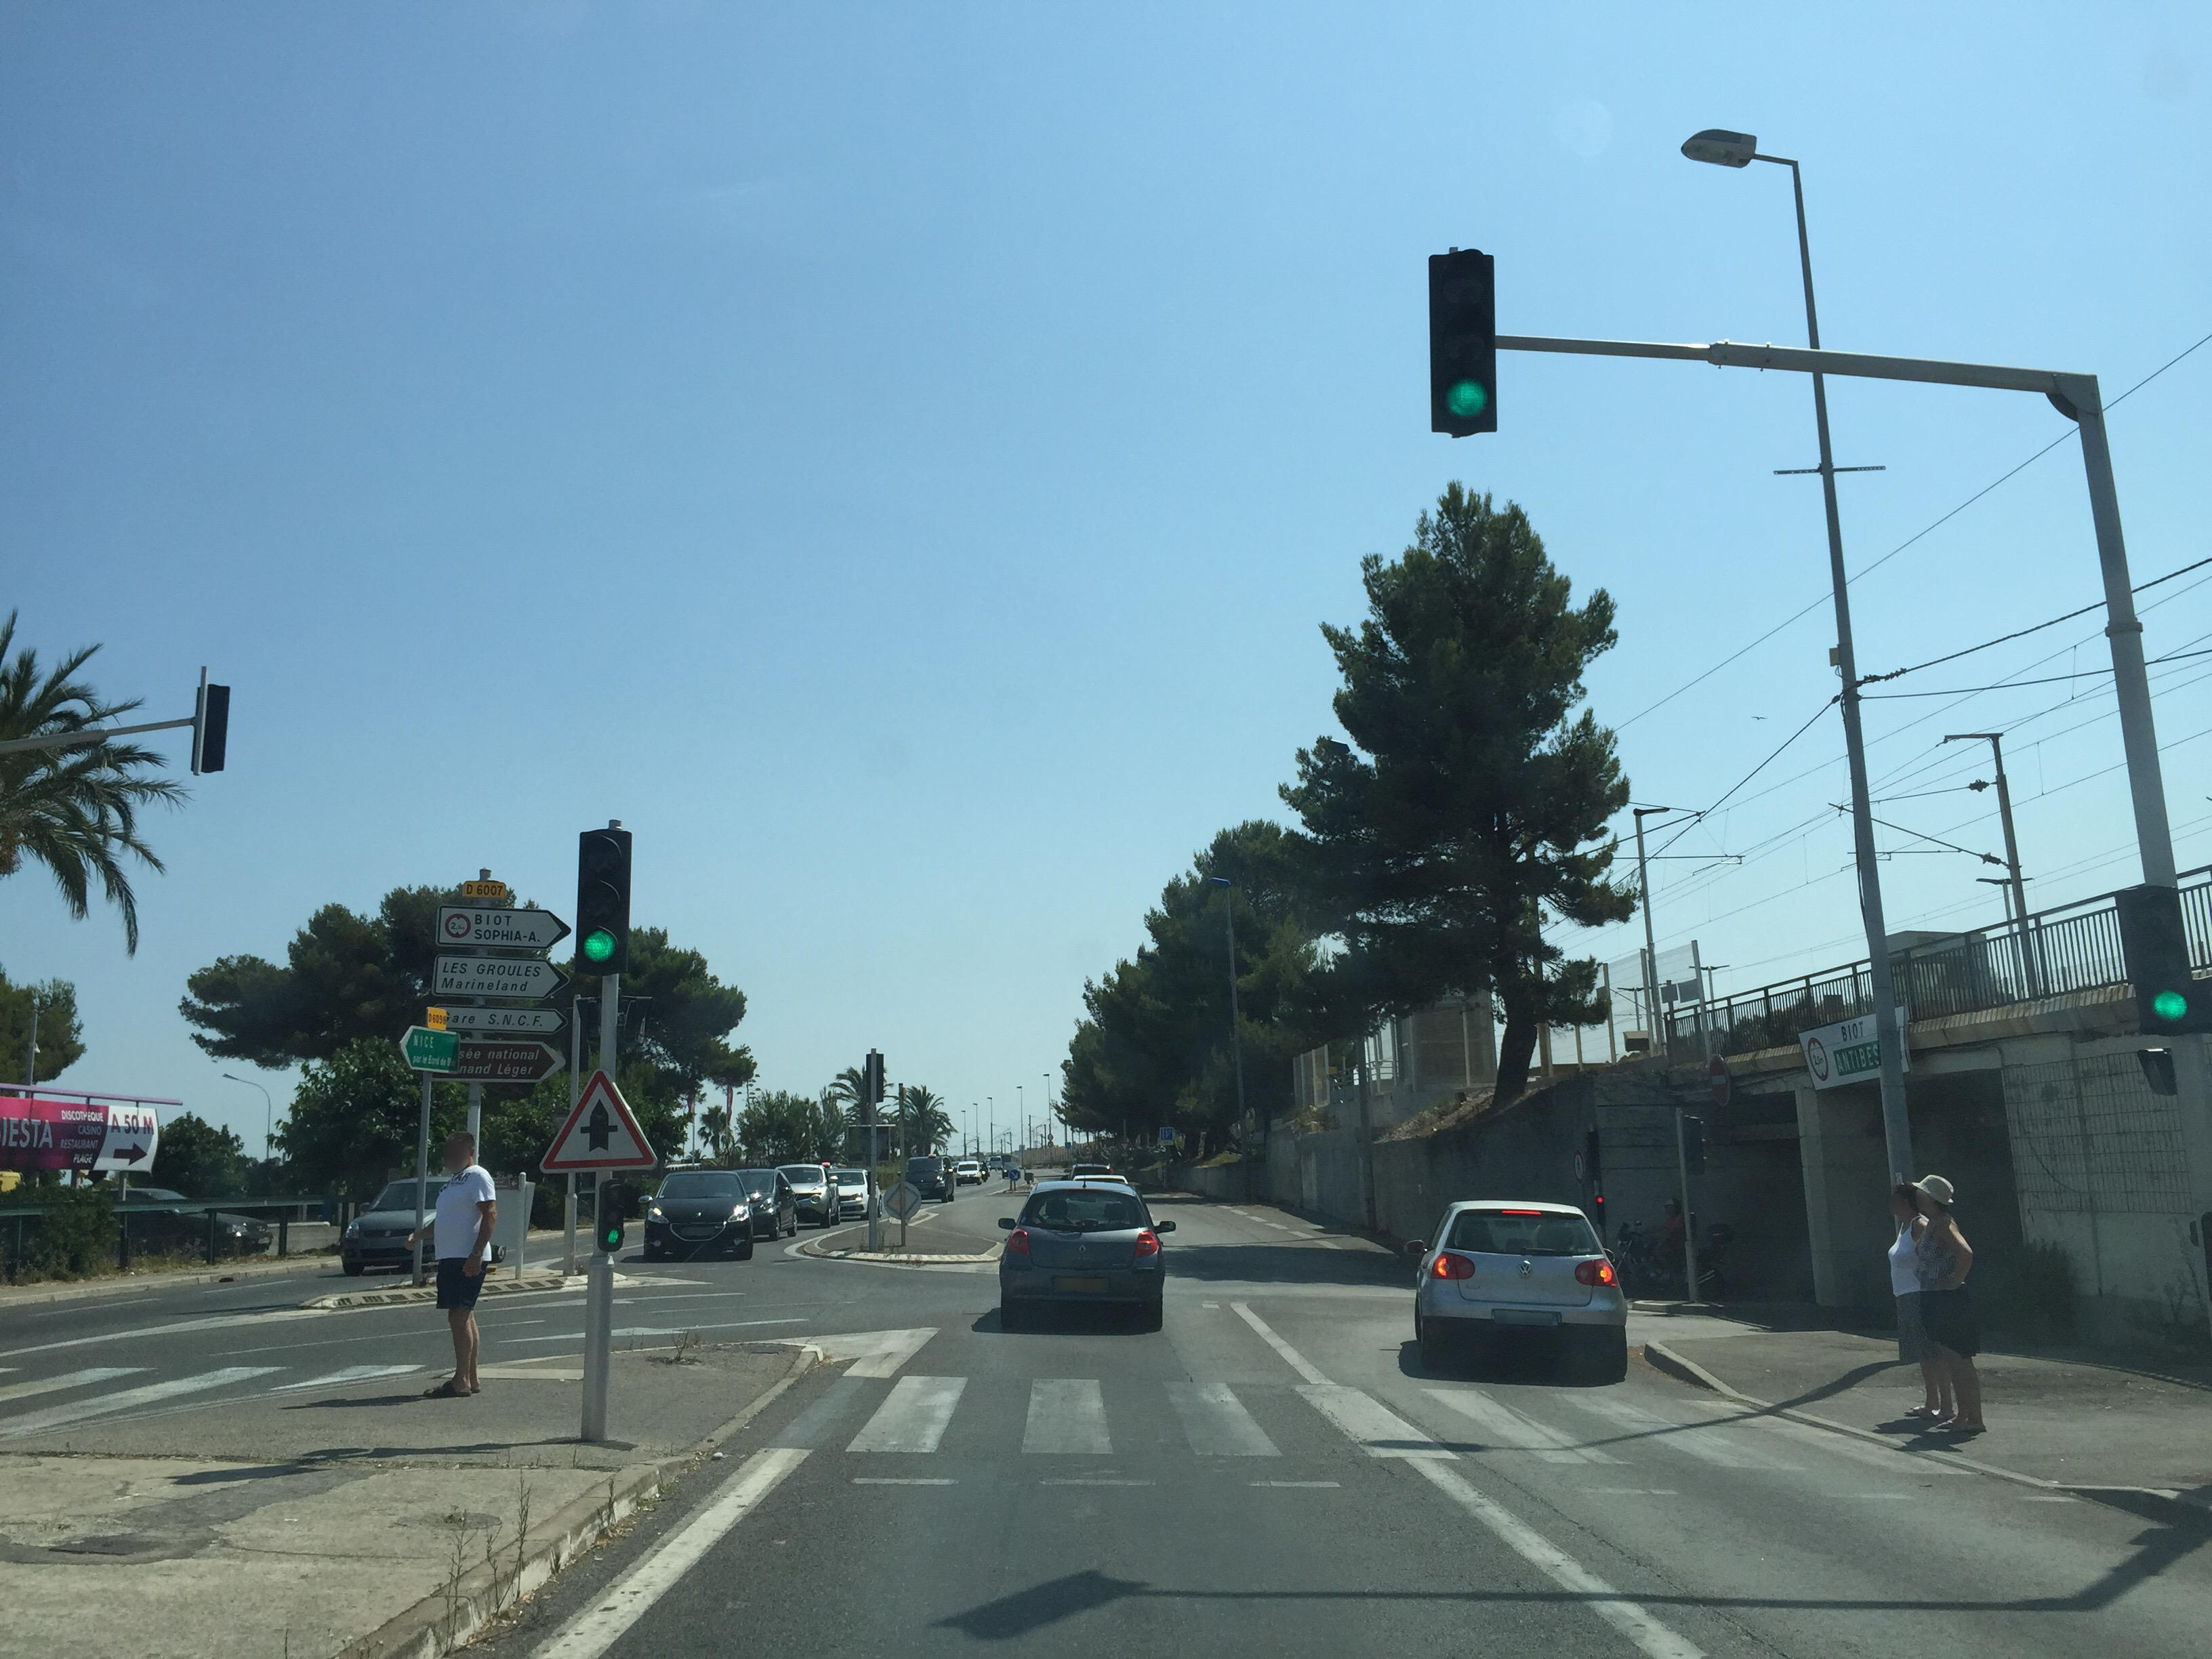vinyl banner: (0, 1079, 162, 1178)
